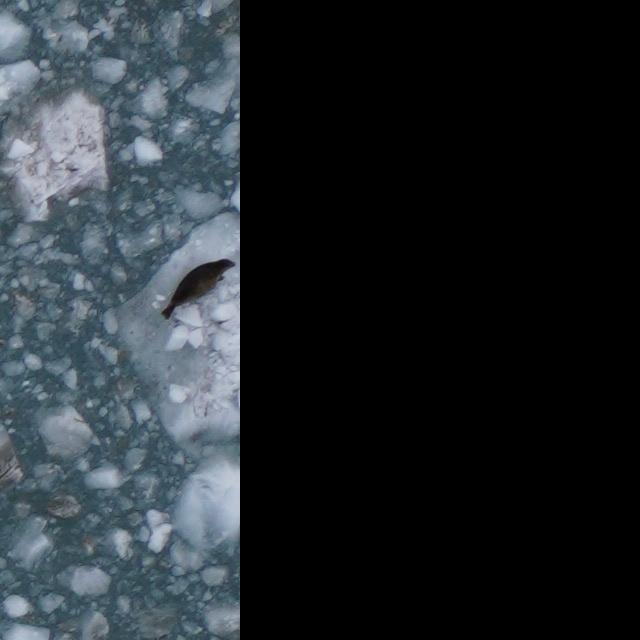seal: (159, 255, 239, 323)
